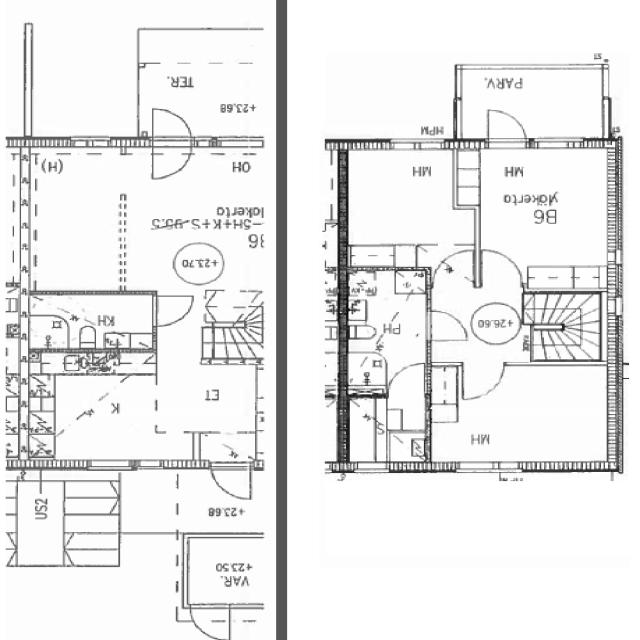door: (476, 244, 527, 290), (458, 361, 508, 402), (483, 107, 531, 149), (149, 106, 194, 148), (210, 462, 252, 502), (424, 307, 469, 344), (150, 292, 194, 328), (149, 146, 193, 182), (387, 359, 429, 396), (189, 608, 232, 640), (217, 429, 240, 448)
window: (451, 460, 521, 475), (531, 134, 589, 152), (208, 134, 265, 152), (388, 136, 450, 152), (67, 135, 115, 151), (352, 461, 393, 477), (133, 458, 167, 472)
zone: (470, 143, 623, 290), (425, 362, 618, 466), (11, 471, 183, 579), (339, 147, 479, 255), (27, 370, 158, 460), (342, 267, 431, 395), (24, 294, 158, 351), (157, 362, 261, 434), (182, 535, 274, 608), (340, 395, 400, 469)
